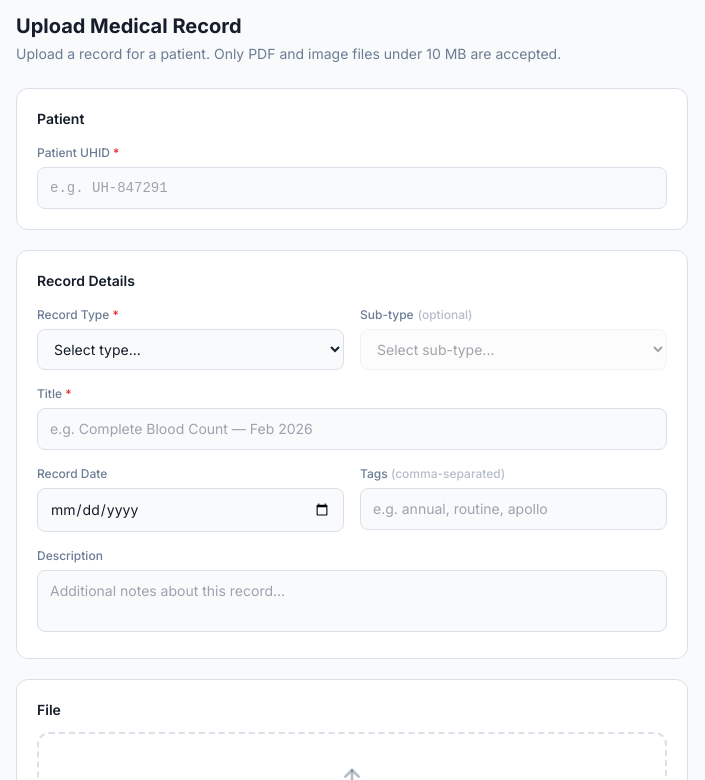
Test: UploadRecordPage — Validation › enables sub-type dropdown when record type is selected
Select "Lab Report" in the dropdown below "Record Type" at {"x": 190, "y": 350}, box [37,329,344,370]
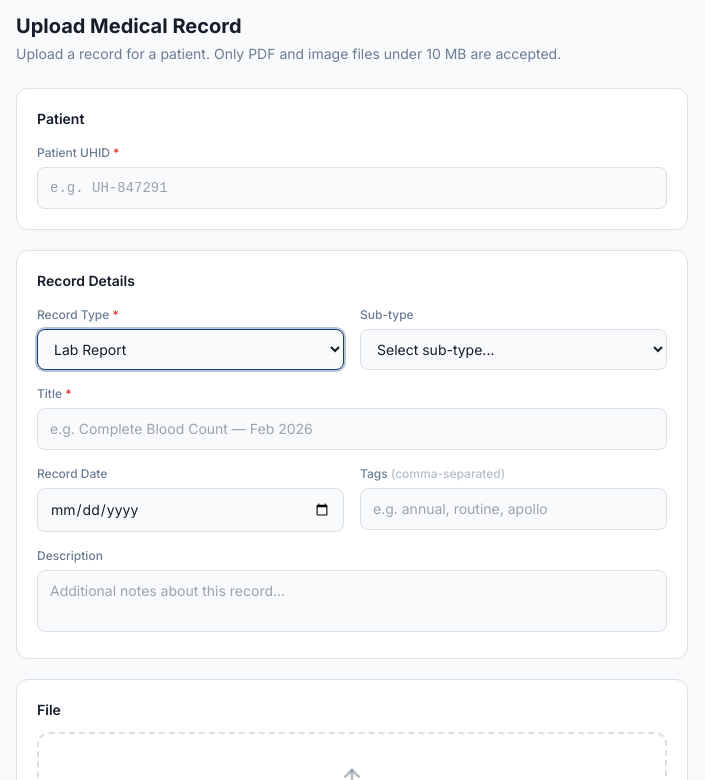
Result: the dropdown below "Sub-type" is enabled at [360,329,667,370]
